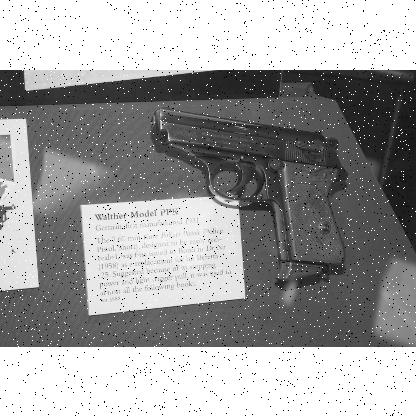gun: (150, 106, 348, 280)
